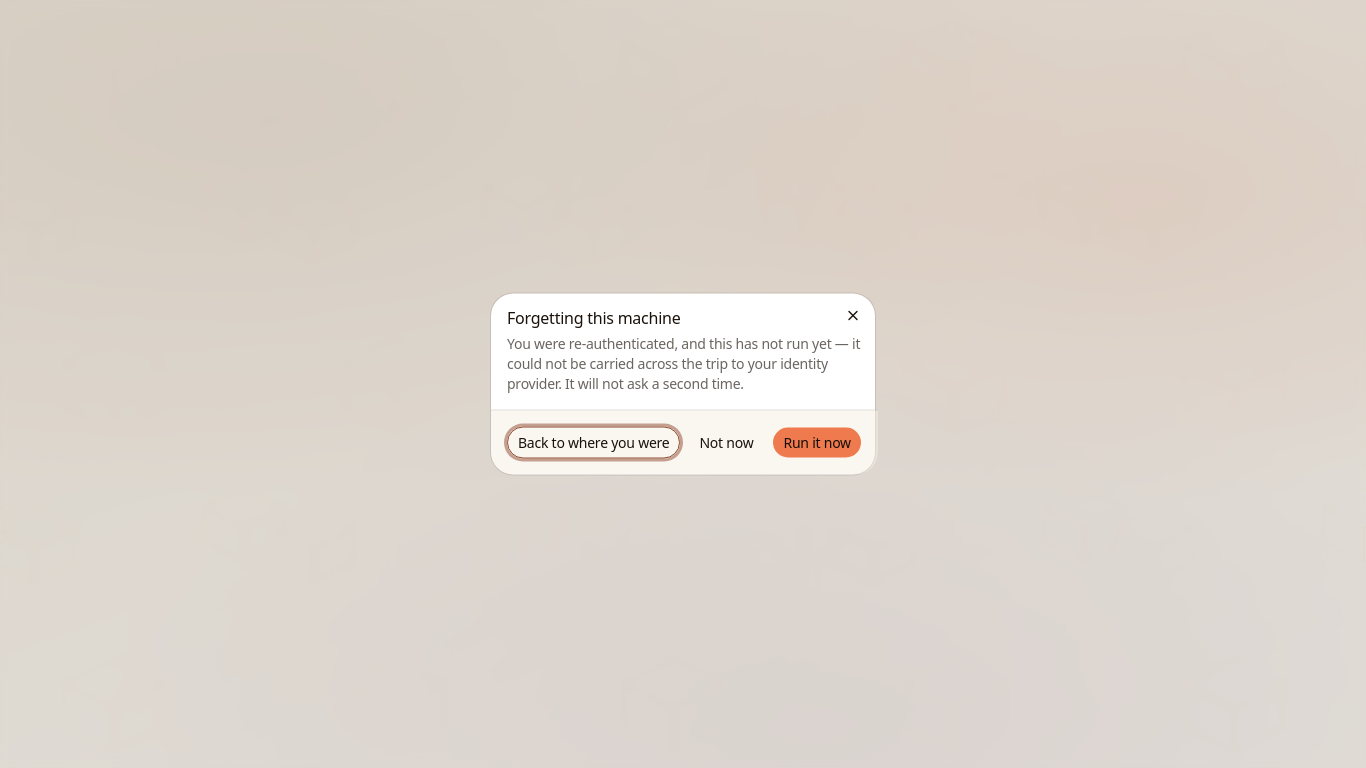
Test: ResumeAfterProvider › says why it did not run rather than losing the reason
Click the button "Run it now" at point(817, 442), box x1=772 y1=426 x2=862 y2=458
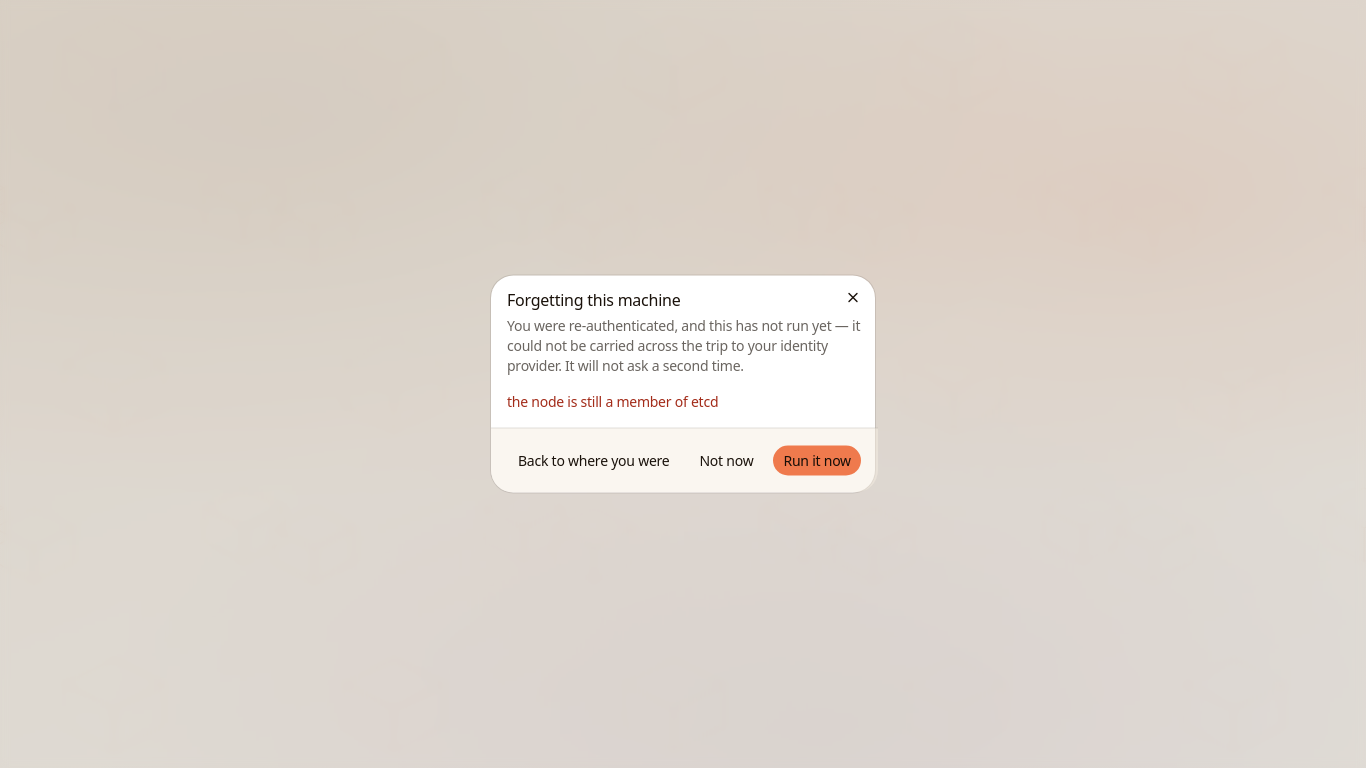
Expected: the text "the node is still a member of etcd" is shown, x1=507 y1=392 x2=718 y2=410
